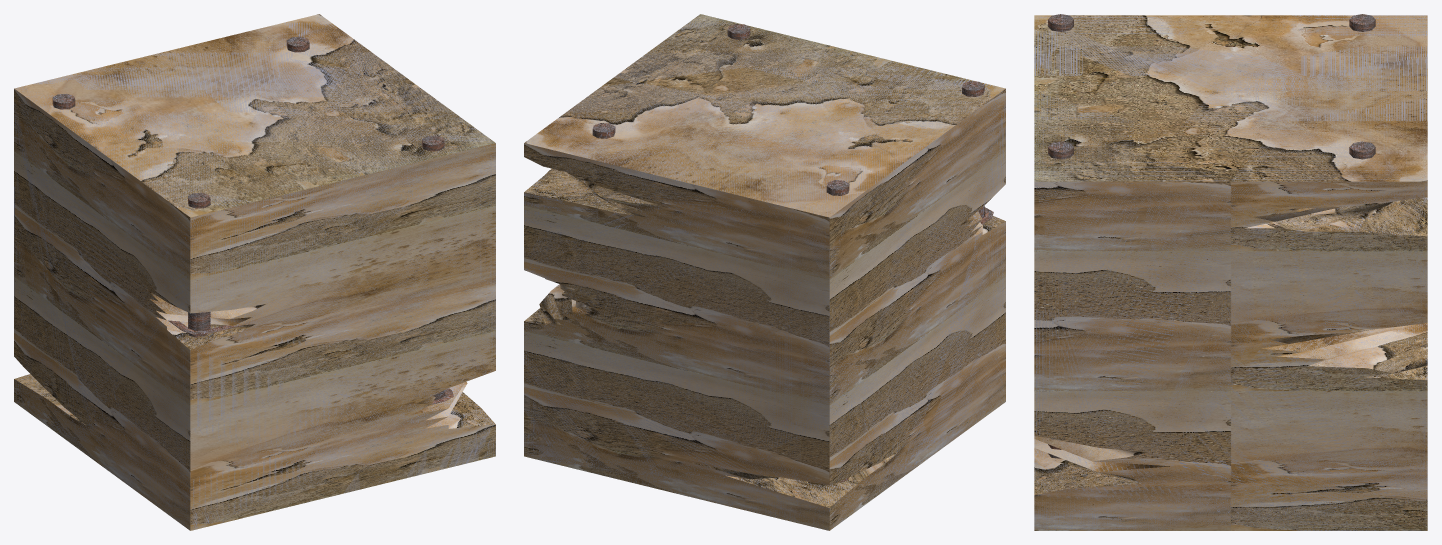
The picture shows the model from 3 angles, left to right: view 1: azimuth 30°, elevation 25°; view 2: azimuth 150°, elevation 25°; view 3: azimuth 270°, elevation 25°; orthographic projection. The views are drawn at different scales.
Parts seen in each view (by area): view 1: C-600sqr (×4), Rebar01; view 2: C-600sqr (×5); view 3: C-600sqr (×5), Rebar01.
Part boxes in pixels (bbox=[...]): C-600sqr (×4): bbox=[14, 14, 495, 530]; Rebar01: bbox=[188, 192, 210, 337]; C-600sqr (×5): bbox=[524, 14, 1005, 530]; C-600sqr (×5): bbox=[1034, 15, 1427, 530]; Rebar01: bbox=[1048, 141, 1073, 458].
Bounding box in the file's own units: 40.16 × 40.16 × 40.16.
4 materials, 3 textured.
